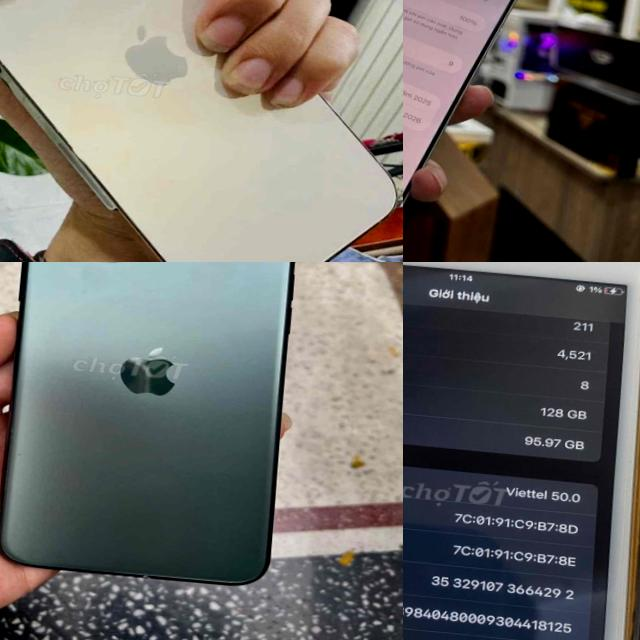gen_11: (0, 262, 320, 596)
gen_14: (0, 0, 403, 262)
gen_17: (403, 0, 553, 259)
gen_6: (403, 262, 640, 640)
